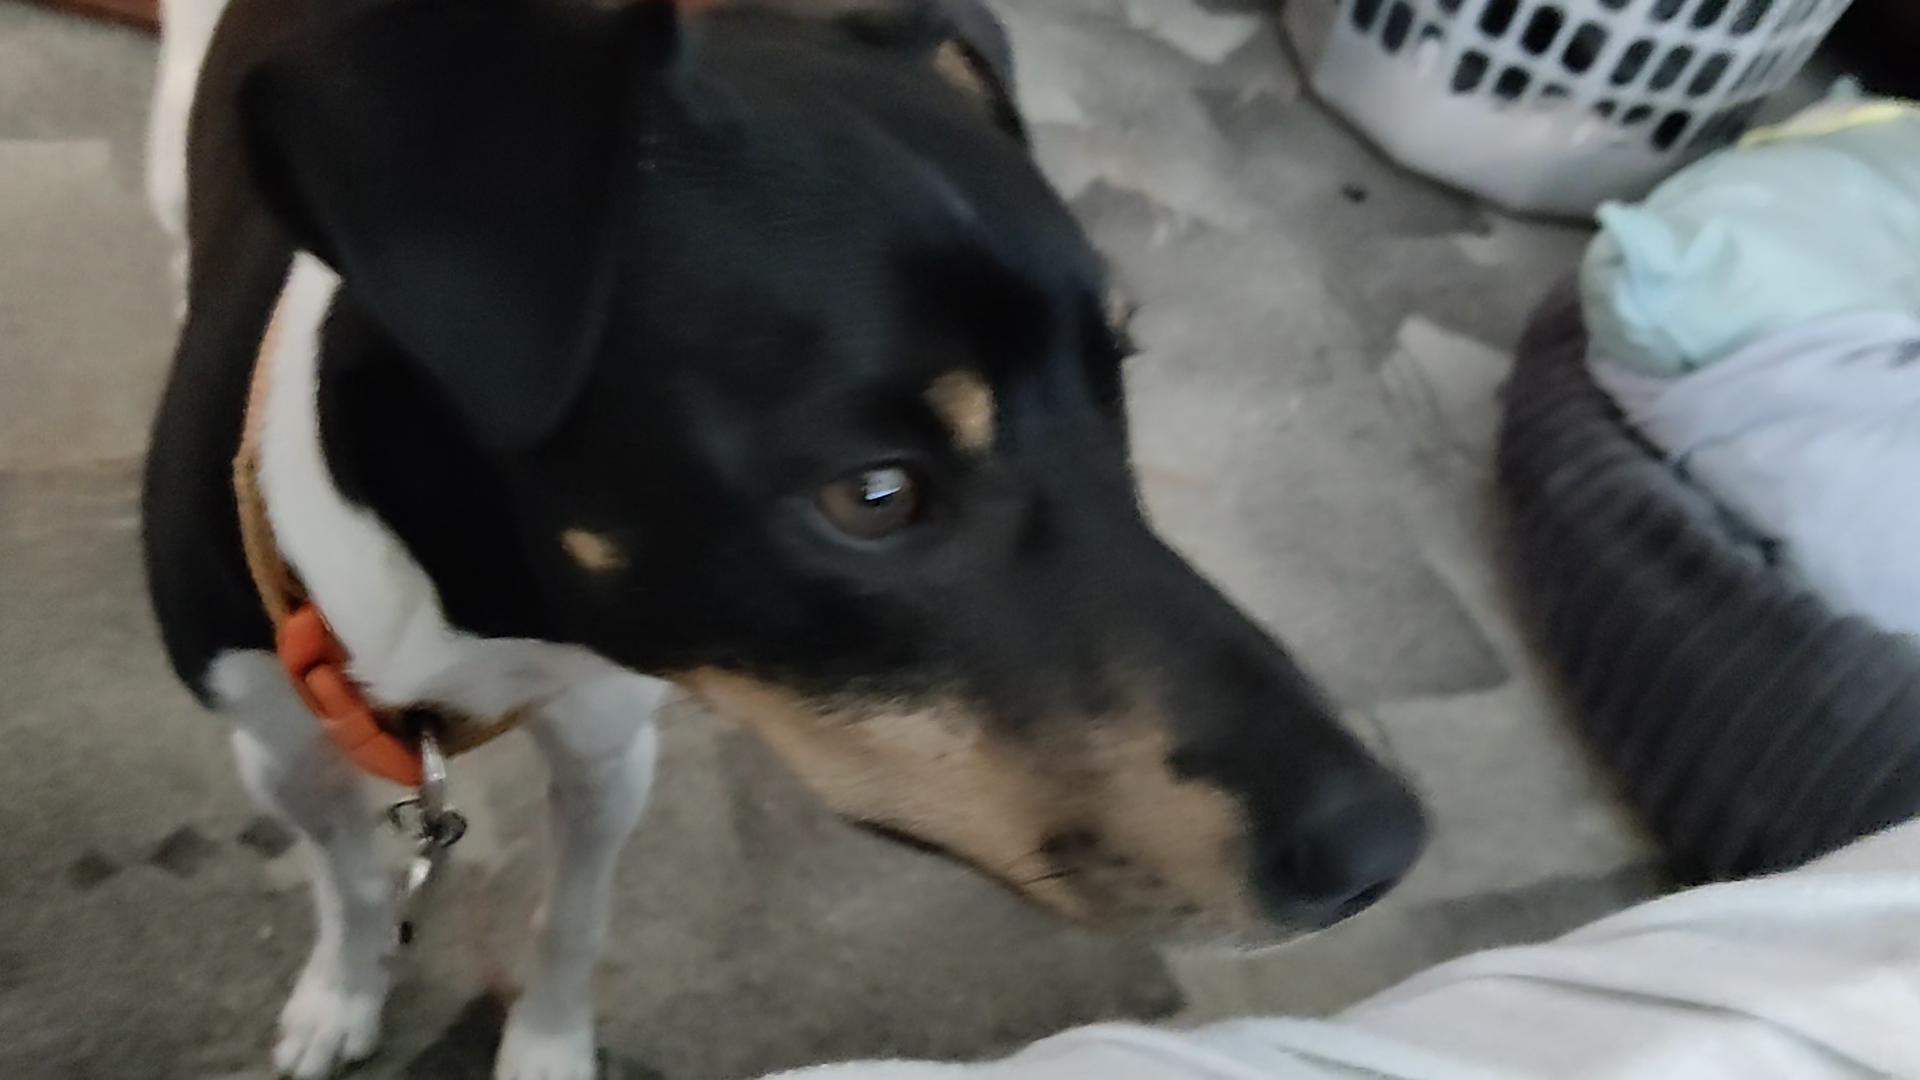Dog: (127, 0, 1435, 1079)
